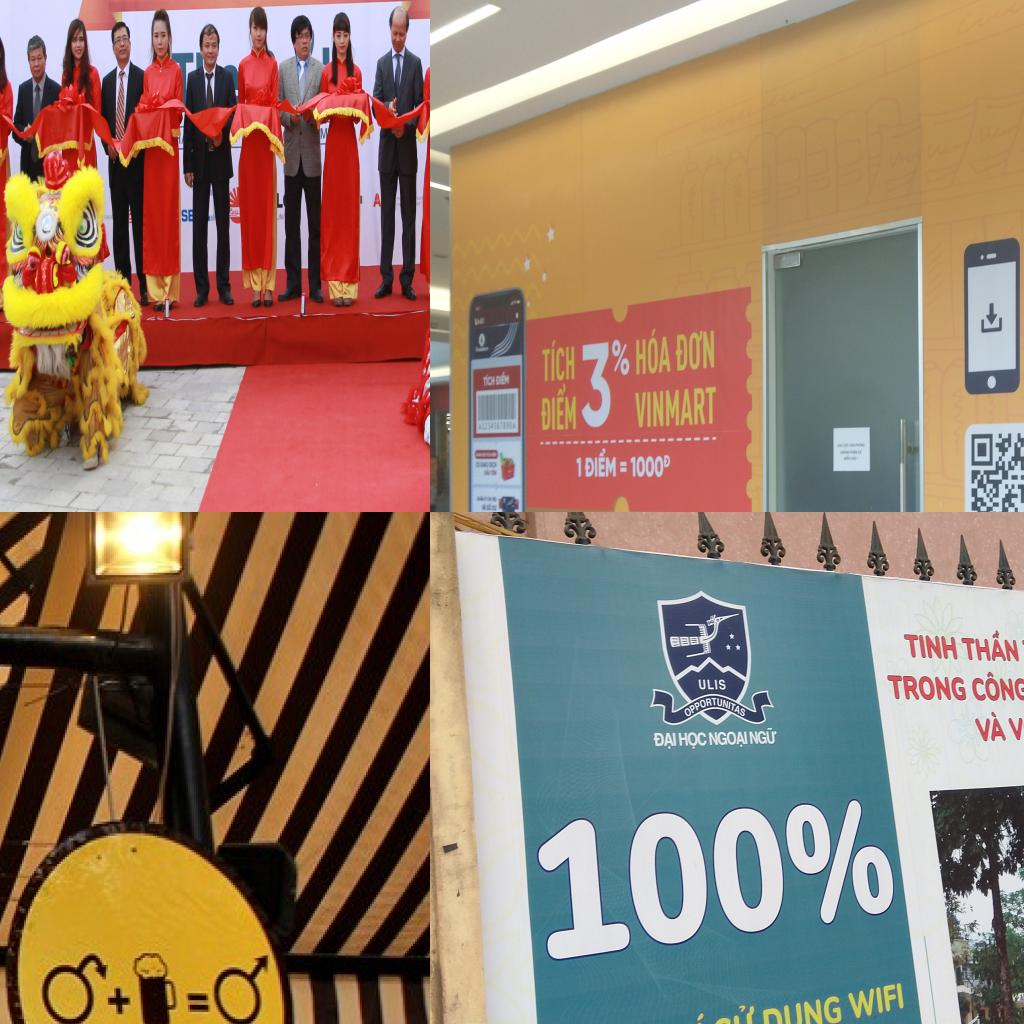text: (529, 796, 904, 964), (632, 387, 717, 429), (580, 341, 611, 429), (761, 992, 845, 1024), (886, 673, 969, 702), (848, 980, 906, 1021), (960, 627, 1020, 662), (539, 381, 578, 432), (673, 327, 715, 372), (635, 326, 671, 376), (968, 670, 1024, 702), (540, 337, 577, 384), (902, 632, 960, 661), (678, 696, 748, 720), (971, 710, 1008, 743), (709, 1000, 754, 1024), (584, 448, 616, 478), (609, 336, 631, 378), (647, 1009, 708, 1024), (708, 729, 749, 750), (106, 988, 134, 1016), (629, 456, 664, 478), (186, 990, 212, 1016), (1004, 709, 1024, 741), (678, 731, 708, 751), (747, 727, 780, 745), (650, 730, 678, 751), (695, 679, 727, 690), (482, 420, 513, 431), (494, 370, 510, 386), (482, 373, 496, 386), (181, 208, 193, 222), (575, 457, 582, 479), (618, 461, 628, 474), (373, 192, 381, 208), (663, 454, 671, 469), (320, 127, 328, 140), (229, 207, 239, 217), (104, 214, 114, 220), (855, 442, 865, 448), (850, 449, 858, 455), (279, 212, 284, 220), (840, 450, 850, 454), (843, 455, 851, 460), (478, 421, 482, 431), (416, 200, 422, 206), (837, 442, 843, 448), (844, 442, 850, 448), (849, 442, 855, 448), (416, 195, 423, 200), (396, 195, 401, 201), (851, 456, 857, 461), (513, 421, 516, 430), (397, 201, 400, 208), (858, 450, 862, 455)
